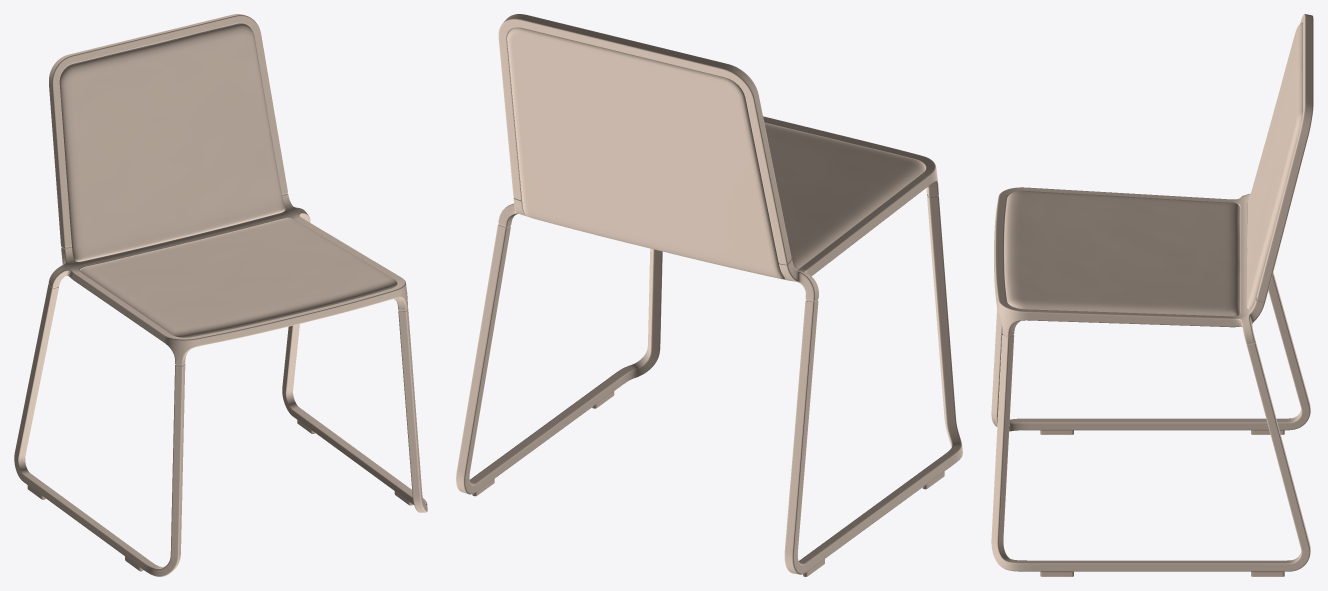
File: NormalStool.fbx
The picture shows the model from 3 angles, left to right: view 1: azimuth 30°, elevation 25°; view 2: azimuth 150°, elevation 25°; view 3: azimuth 270°, elevation 25°; orthographic projection. The views are drawn at different scales.
Visible parts, largest first — view 1: NormalStool1, NormalStool3; view 2: NormalStool1, NormalStool3; view 3: NormalStool1, NormalStool3, NormalStool2.
Part boxes in pixels (x1,y1,x2,y2): NormalStool1: (59, 23, 397, 337); NormalStool3: (14, 14, 427, 576); NormalStool1: (507, 27, 925, 279); NormalStool3: (456, 14, 962, 574); NormalStool1: (1004, 22, 1311, 316); NormalStool3: (991, 14, 1313, 571); NormalStool2: (1040, 430, 1284, 576).
Size of the model in its own units: 49.16 by 69.99 by 45.89.
